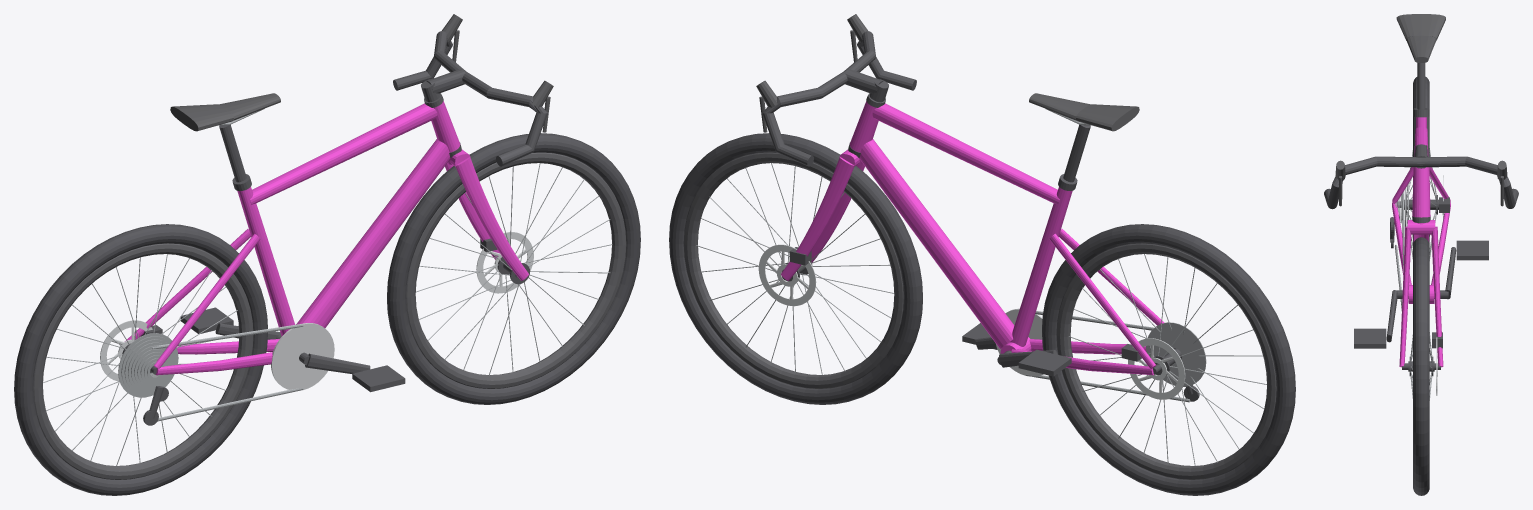
File: road-cc-favero-has-huge-discounts-across-the-ent.glb
3 views of the same model, side by side, from view 1: azimuth 30°, elevation 25°; view 2: azimuth 150°, elevation 25°; view 3: azimuth 270°, elevation 25° (orthographic). The views are drawn at different scales.
Visible parts, largest first — view 1: rear_wheel_tire, front_wheel_tire, front_wheel_rim, rear_wheel_rim, frame_downtube, frame_toptube, cockpit_dropbar, front_wheel_spokes, drivetrain_chainring, drivetrain_crankset, fork_rigid_blades, drivetrain_cassette (+12 smaller); view 2: rear_wheel_tire, front_wheel_tire, rear_wheel_rim, front_wheel_rim, frame_downtube, frame_toptube, cockpit_dropbar, fork_rigid_blades, front_wheel_spokes, frame_seattube, rear_wheel_spokes, rear_seatstays (+11 smaller); view 3: front_wheel_tire, cockpit_dropbar, drivetrain_crankset, fork_rigid_blades, saddle_shell, frame_headtube, rear_chainstays, cockpit_shifter_hoods, rear_wheel_tire, rear_seatstays, seatpost_aero, drivetrain_chain (+7 smaller).
Boxes of the visible parts, x1,y1,x2,y2 form: rear_wheel_tire: [14, 224, 267, 495]; front_wheel_tire: [387, 133, 640, 404]; front_wheel_rim: [406, 152, 626, 388]; rear_wheel_rim: [33, 243, 253, 479]; frame_downtube: [296, 139, 450, 328]; frame_toptube: [250, 103, 437, 204]; cockpit_dropbar: [393, 31, 547, 166]; front_wheel_spokes: [416, 163, 612, 375]; drivetrain_chainring: [271, 323, 334, 390]; drivetrain_crankset: [180, 307, 405, 392]; fork_rigid_blades: [445, 149, 528, 280]; drivetrain_cassette: [118, 333, 178, 397]; rear_wheel_tire: [1042, 224, 1295, 495]; front_wheel_tire: [669, 133, 922, 404]; rear_wheel_rim: [1056, 243, 1276, 479]; front_wheel_rim: [683, 152, 903, 388]; frame_downtube: [859, 139, 1014, 348]; frame_toptube: [872, 103, 1059, 204]; cockpit_dropbar: [762, 31, 916, 166]; fork_rigid_blades: [781, 149, 864, 280]; front_wheel_spokes: [696, 163, 894, 374]; frame_seattube: [1010, 187, 1072, 346]; rear_wheel_spokes: [1068, 254, 1266, 465]; rear_seatstays: [1049, 229, 1164, 368]; front_wheel_tire: [1413, 237, 1429, 495]; cockpit_dropbar: [1324, 156, 1518, 209]; drivetrain_crankset: [1354, 240, 1488, 348]; fork_rigid_blades: [1399, 220, 1443, 367]; saddle_shell: [1396, 14, 1445, 62]; frame_headtube: [1412, 167, 1430, 217]; rear_chainstays: [1392, 203, 1450, 284]; cockpit_shifter_hoods: [1335, 160, 1507, 206]; rear_wheel_tire: [1413, 76, 1429, 243]; rear_seatstays: [1392, 167, 1450, 203]; seatpost_aero: [1417, 62, 1425, 109]; drivetrain_chain: [1395, 192, 1404, 310].
Bounding box in the file's own units: 1.75 × 0.9842 × 0.5316.
